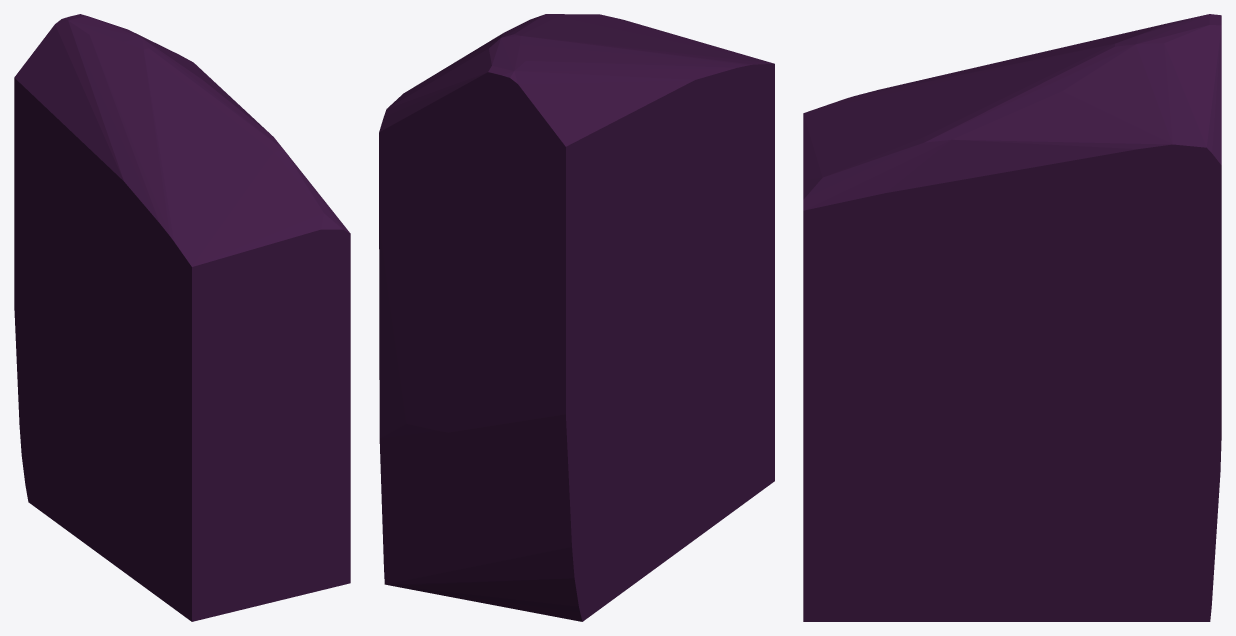
3 renders of one model, left to right at view 1: azimuth 30°, elevation 25°; view 2: azimuth 150°, elevation 25°; view 3: azimuth 270°, elevation 25°, orthographic. The views are drawn at different scales.
Bounding box in the file's own units: 0.00991 × 0.0276 × 0.0192.
